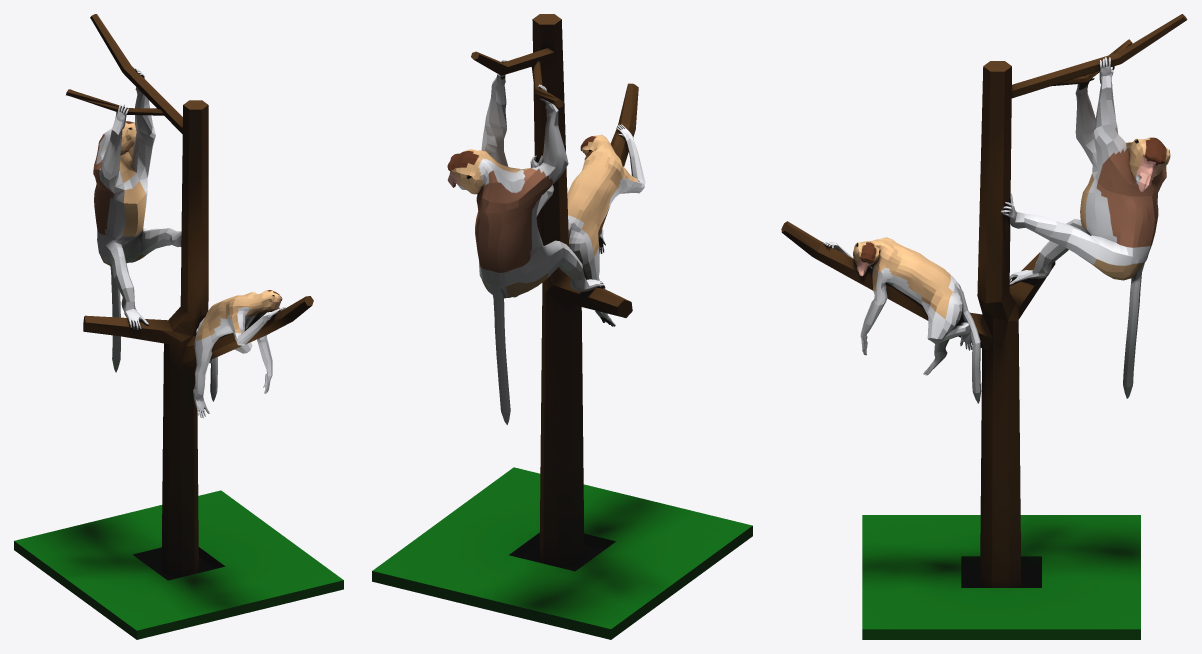
The model's file is proboscis.glb.
The picture shows the model from 3 angles, left to right: view 1: azimuth 30°, elevation 25°; view 2: azimuth 150°, elevation 25°; view 3: azimuth 270°, elevation 25°; orthographic projection. The views are drawn at different scales.
Bounding box in the file's own units: 1.17 × 2.7 × 1.75.
1 material, 1 textured.
